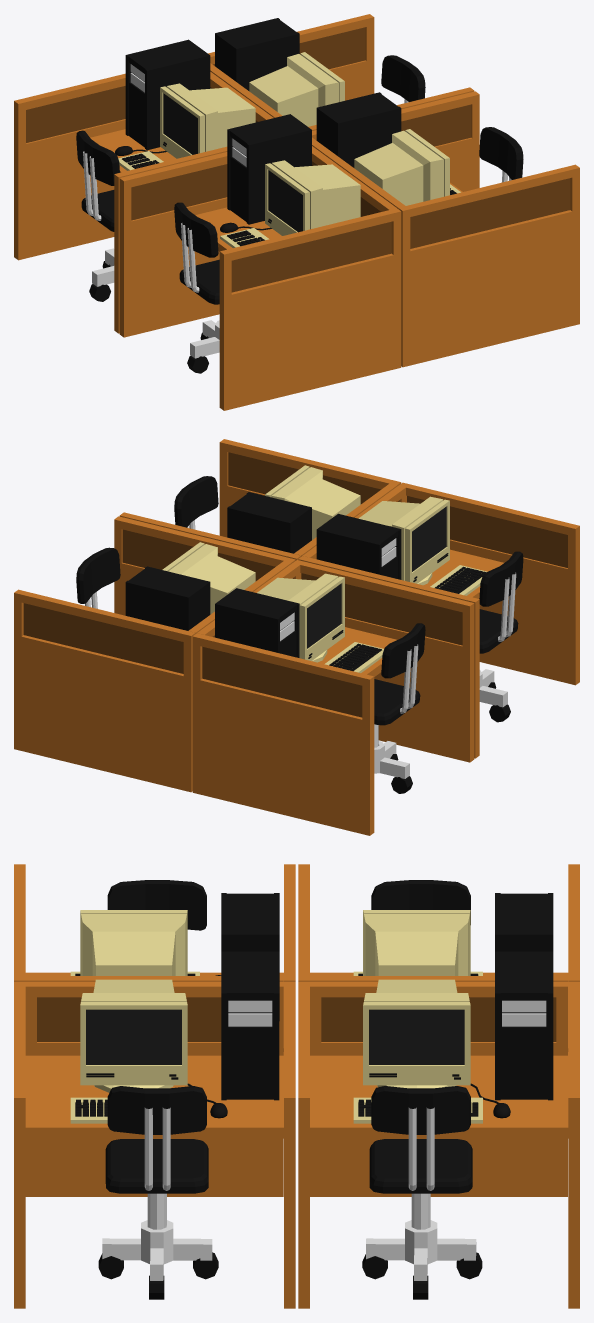
The model's file is Set Komputer.fbx.
3 views of the same model, one above another, from view 1: azimuth 30°, elevation 25°; view 2: azimuth 150°, elevation 25°; view 3: azimuth 270°, elevation 25° (orthographic). The views are drawn at different scales.
Parts seen in each view (by area): view 1: Plane.015, Circle, Cube.006, Vert.003; view 2: Plane.015, Cube.006, Circle, Vert.003; view 3: Plane.015, Circle, Vert.003, Cube.006.
Boxes of the visible parts, x1,y1,x2,y2 form: Plane.015: [14, 14, 579, 410]; Circle: [115, 52, 460, 247]; Cube.006: [125, 18, 401, 224]; Vert.003: [76, 55, 523, 373]; Plane.015: [14, 439, 579, 835]; Cube.006: [125, 492, 401, 657]; Circle: [162, 465, 487, 672]; Vert.003: [76, 476, 523, 793]; Plane.015: [14, 864, 579, 1308]; Circle: [70, 910, 510, 1123]; Vert.003: [98, 880, 482, 1299]; Cube.006: [221, 893, 553, 1100].
Size of the model in its own units: 2099 by 1075 by 2147.
